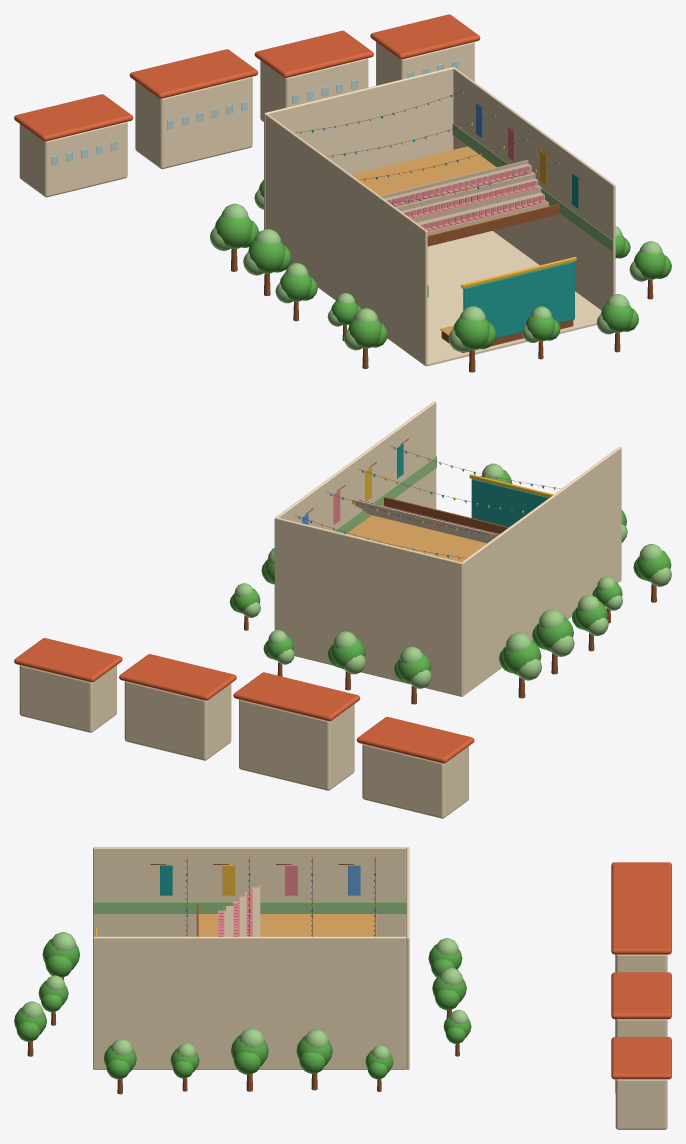
File: icc_inside.glb
3 views of the same model, one above another, from view 1: azimuth 30°, elevation 25°; view 2: azimuth 150°, elevation 25°; view 3: azimuth 270°, elevation 25° (orthographic). The views are drawn at different scales.
Parts seen in each view (by area): view 1: HallWallL, HallWallR, HallBack, Block1.003, FloorBase-col.001, Block0.003, StageBackdrop, SeatBase-col.001, Block2.003, FloorTop-col.001, Block1Roof.003, Block0Roof.003 (+17 smaller); view 2: HallBack, HallWallL, Block1.003, HallWallR, Block2.003, Block0.003, Block3.002, Block1Roof.003, Block0Roof.003, Block2Roof.003, FloorTop-col.001, Block3Roof.002 (+6 smaller); view 3: HallWallR, HallWallL, HallWainL, FloorTop-col.001, Block1Roof.003, Block2Roof.003, Block3.002, Block3Roof.002, Block0Roof.003, SeatBase-col.001, Block1.003, Block2.003 (+9 smaller).
Part boxes in pixels (<box>): HallWallL: <box>265,114,427,366</box>; HallWallR: <box>453,68,615,310</box>; HallBack: <box>264,67,454,229</box>; Block1.003: <box>135,77,252,169</box>; FloorBase-col.001: <box>427,231,601,365</box>; Block0.003: <box>19,122,127,197</box>; StageBackdrop: <box>463,261,574,338</box>; SeatBase-col.001: <box>380,160,548,234</box>; Block2.003: <box>260,58,368,121</box>; FloorTop-col.001: <box>351,146,549,235</box>; Block1Roof.003: <box>129,49,258,98</box>; Block0Roof.003: <box>14,94,133,141</box>; HallBack: <box>274,517,463,696</box>; HallWallL: <box>462,446,621,695</box>; Block1.003: <box>239,699,354,790</box>; HallWallR: <box>276,401,436,530</box>; Block2.003: <box>124,681,231,760</box>; Block0.003: <box>362,744,468,818</box>; Block3.002: <box>19,665,116,732</box>; Block1Roof.003: <box>233,672,360,721</box>; Block0Roof.003: <box>356,717,474,763</box>; Block2Roof.003: <box>119,654,236,700</box>; FloorTop-col.001: <box>346,515,486,562</box>; Block3Roof.002: <box>14,638,122,682</box>; HallWallR: <box>93,936,406,1069</box>; HallWallL: <box>93,847,406,937</box>; HallWainL: <box>93,902,406,913</box>; FloorTop-col.001: <box>198,913,376,936</box>; Block1Roof.003: <box>611,903,671,954</box>; Block2Roof.003: <box>611,972,671,1019</box>; Block3.002: <box>615,1079,667,1129</box>; Block3Roof.002: <box>611,1037,671,1079</box>; Block0Roof.003: <box>611,862,671,905</box>; SeatBase-col.001: <box>218,884,260,936</box>; Block1.003: <box>615,954,667,972</box>; Block2.003: <box>615,1019,667,1036</box>.
Size of what is drawn, in the model's own units: 47.3 by 14 by 62.97.
